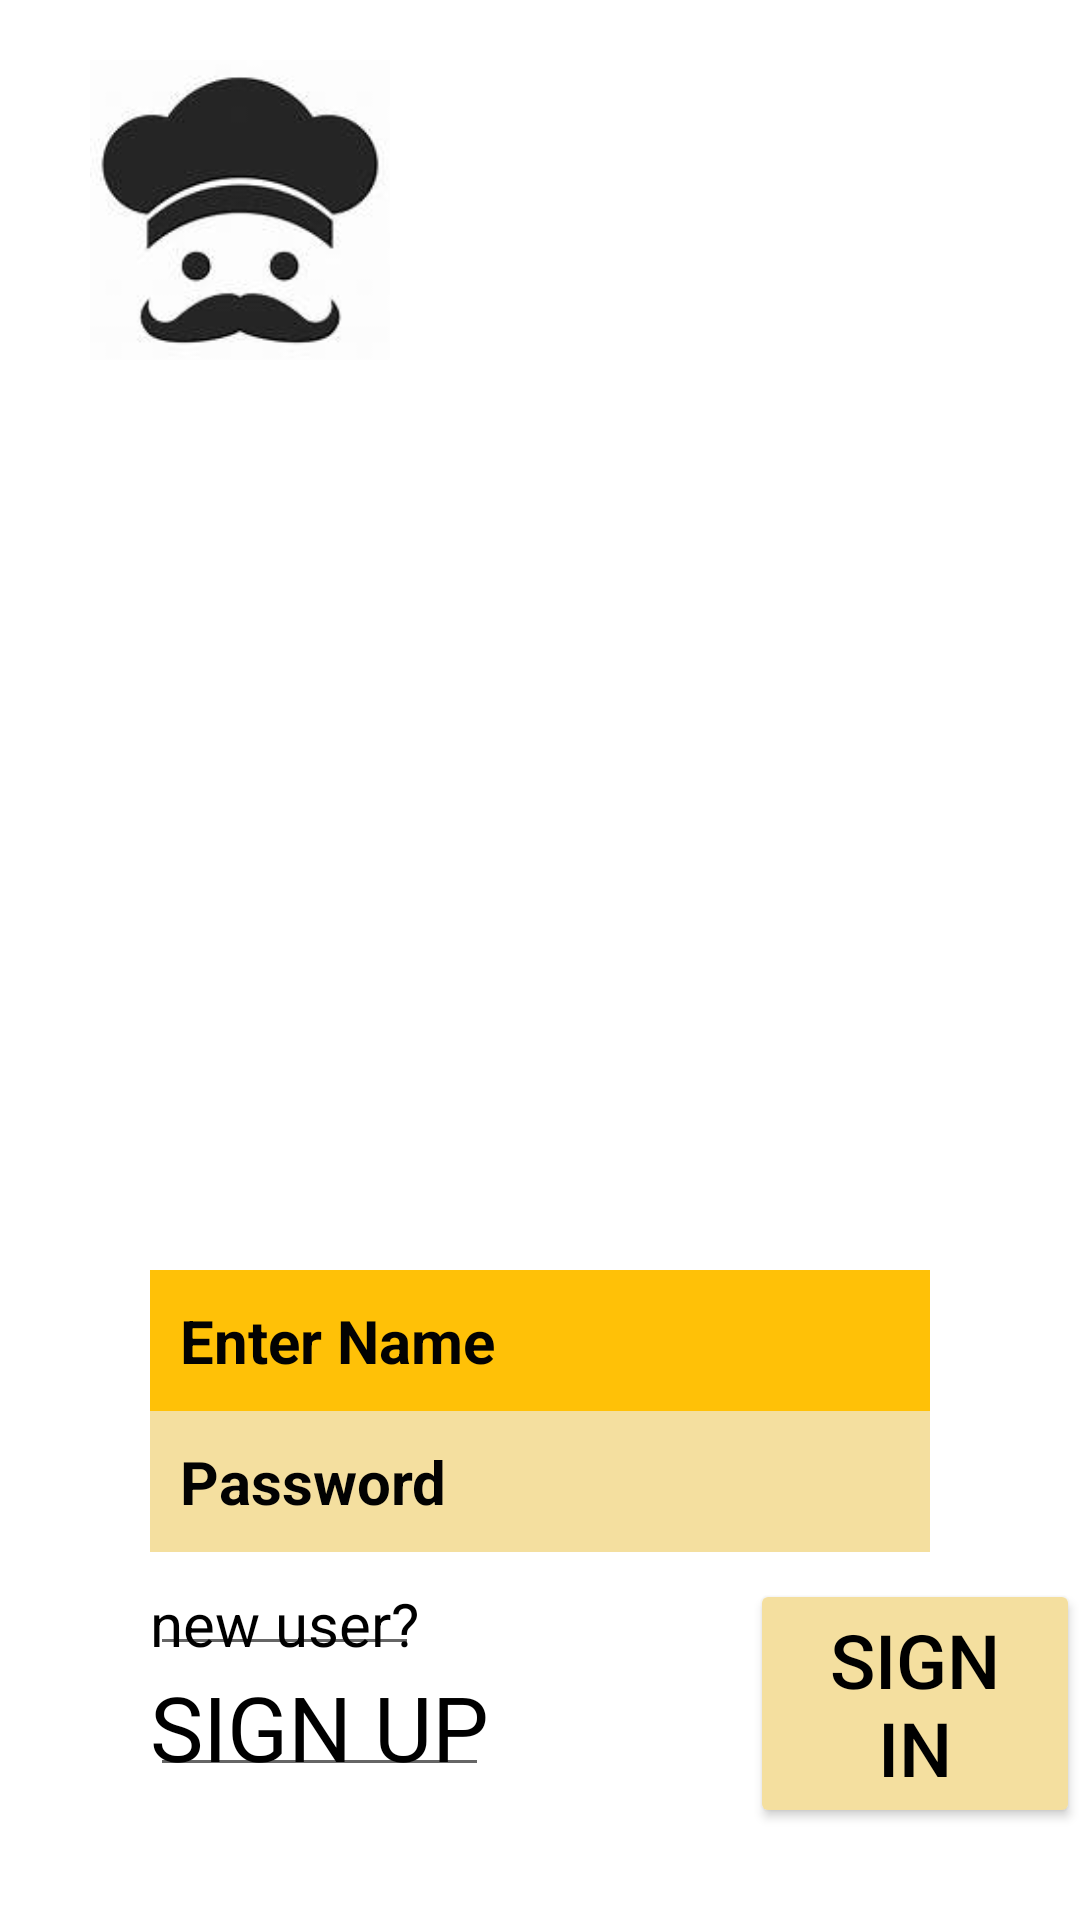

Icon bounding boxes for this 1080 × 1920 phone screenshot, format (x1, y1, x2, y2):
chef: (101, 77, 379, 344)
